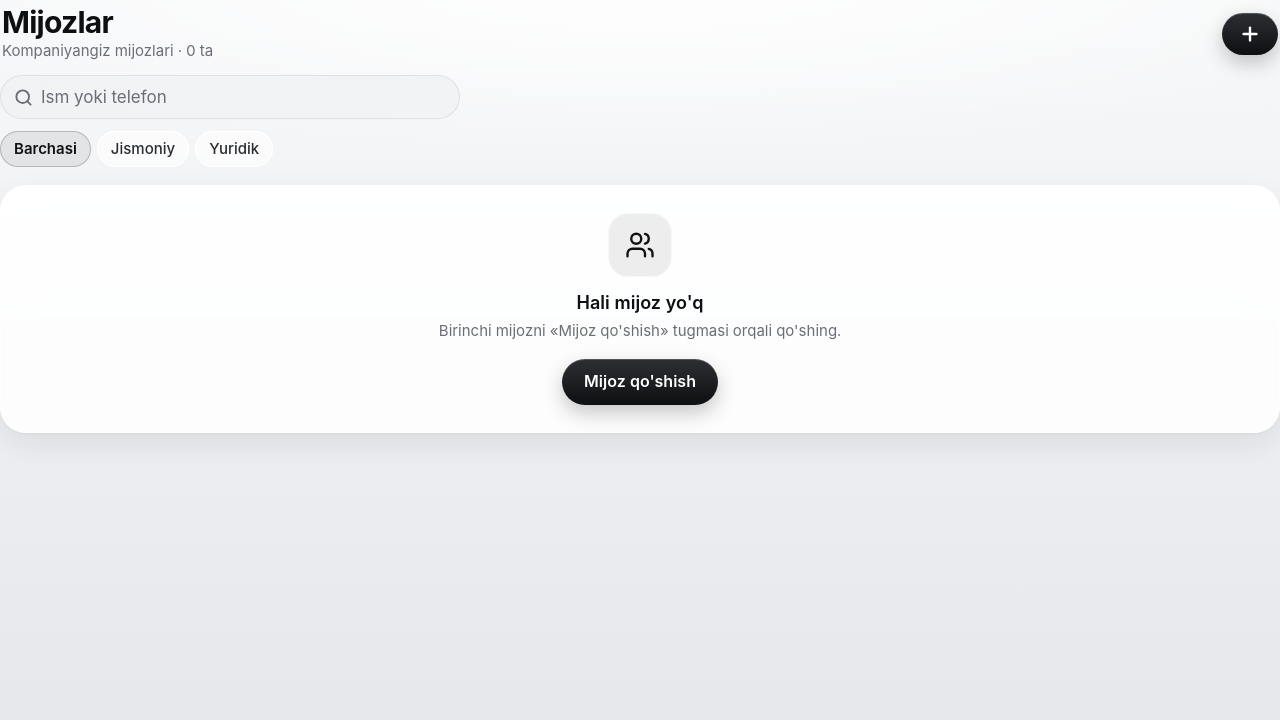
Test case: any other refusal shows the API's reason, and leads nowhere
This screenshot has width=1280, height=720.
Click the button named "Mijoz qo'shish": (1250, 34) x1=1222 y1=13 x2=1278 y2=55
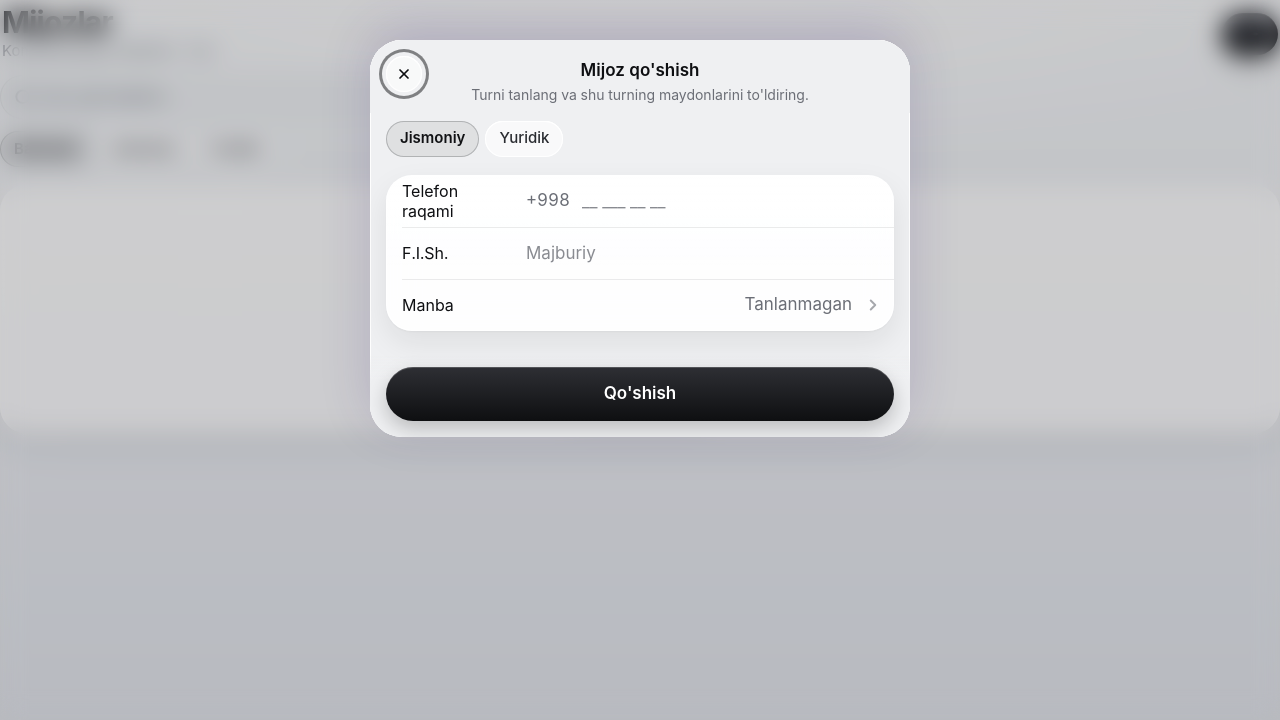
In the field labelled "Telefon raqami": (730, 200) x1=582 y1=178 x2=878 y2=222, type "901112233"
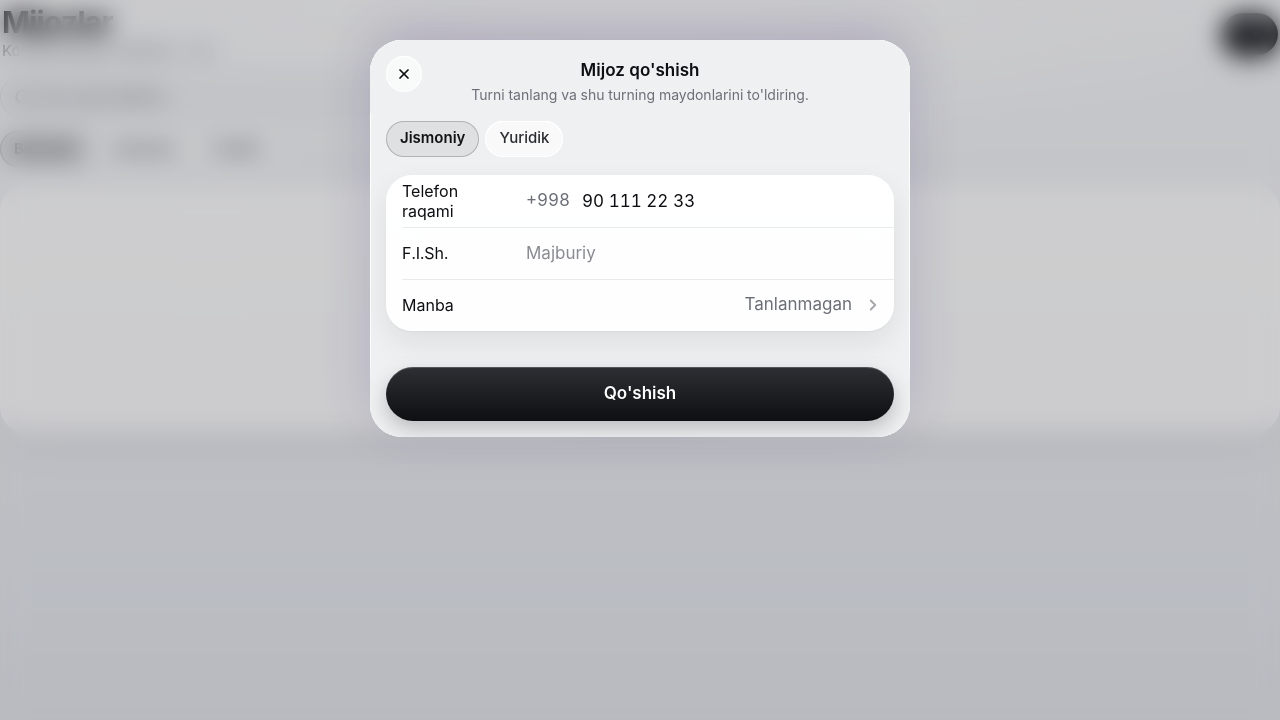
In the field labelled "F.I.Sh.": (702, 252) x1=526 y1=230 x2=878 y2=274, type "Ali"
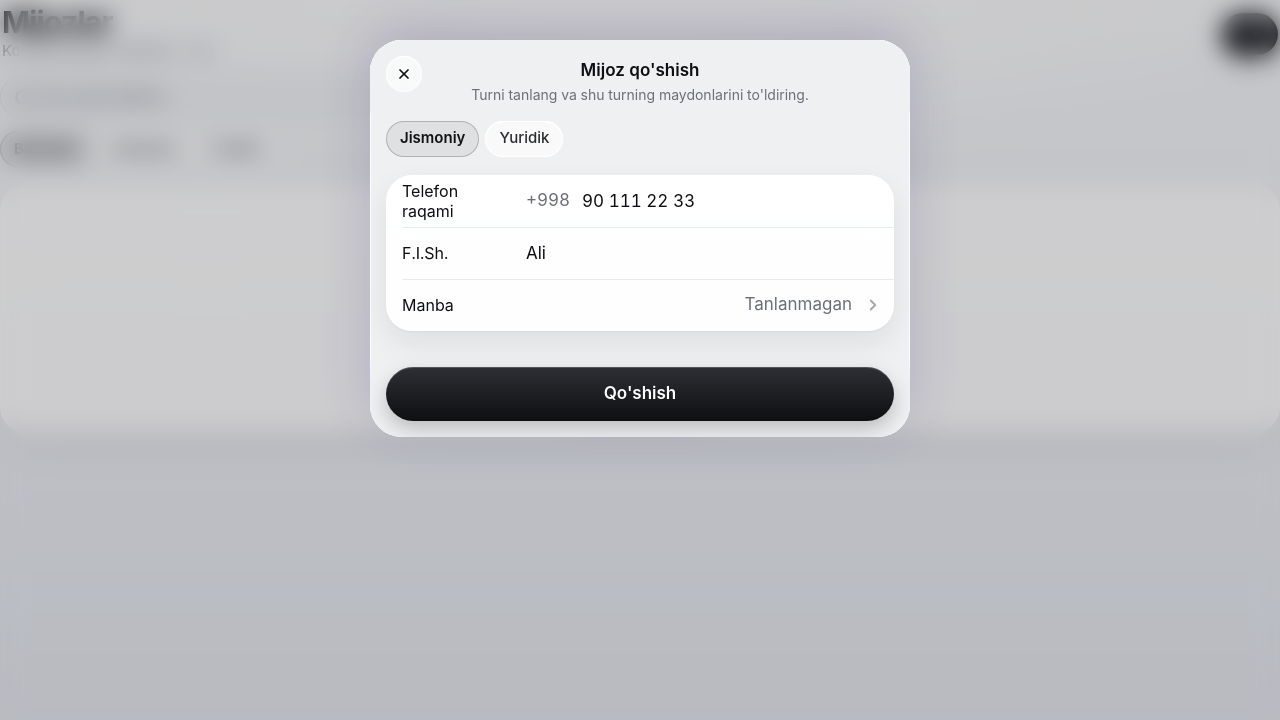
Click the button "Qo'shish": (640, 394) x1=386 y1=366 x2=894 y2=420
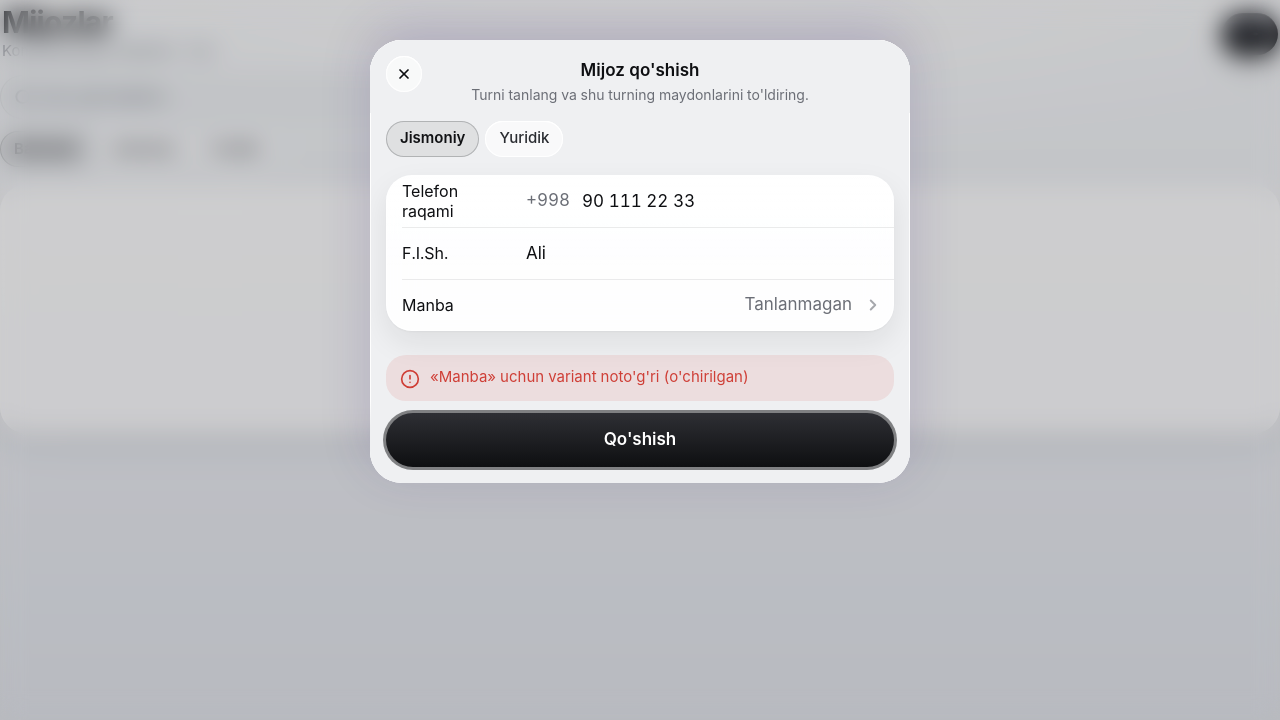
Expected: the text "«Manba» uchun variant noto'g'ri (o'chirilgan)" is shown, x1=430 y1=366 x2=749 y2=386
